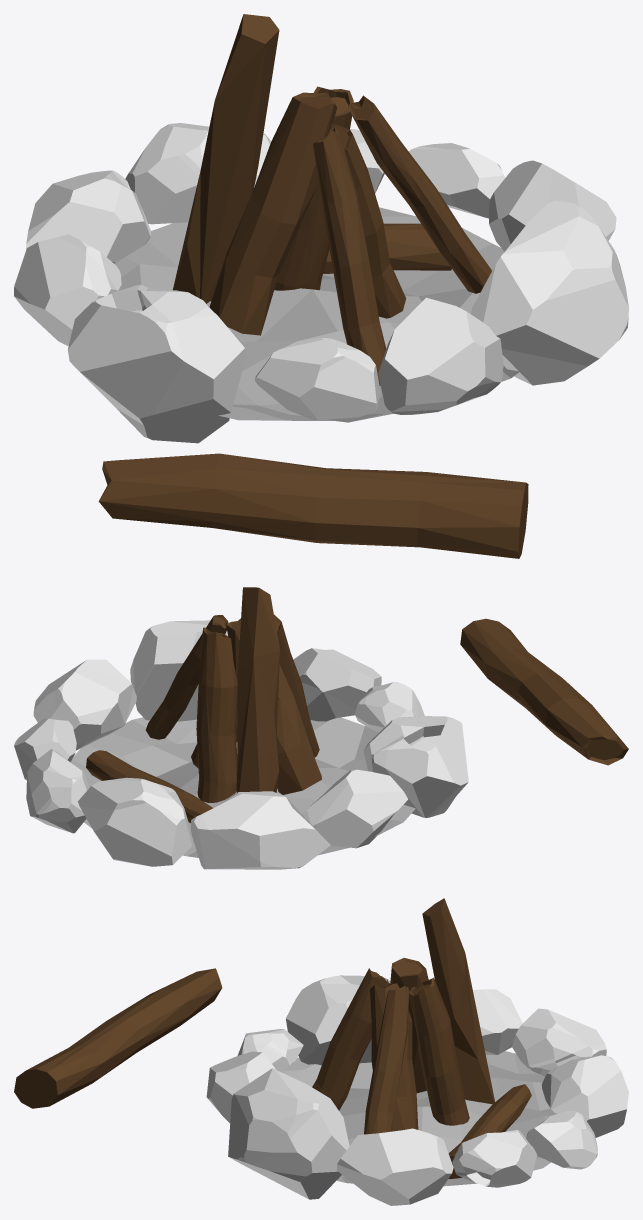
File: fogata (2).fbx
The picture shows the model from 3 angles, top to bottom: view 1: azimuth 30°, elevation 25°; view 2: azimuth 150°, elevation 25°; view 3: azimuth 270°, elevation 25°; orthographic projection. The views are drawn at different scales.
Visible parts, largest first — view 1: Rocas; view 2: Rocas; view 3: Rocas.
Boxes of the visible parts, x1=… form: Rocas: x1=14, y1=14, x2=628, y2=558; Rocas: x1=14, y1=587, x2=628, y2=869; Rocas: x1=14, y1=898, x2=628, y2=1205.
Bounding box in the file's own units: 569 × 282 × 673.
